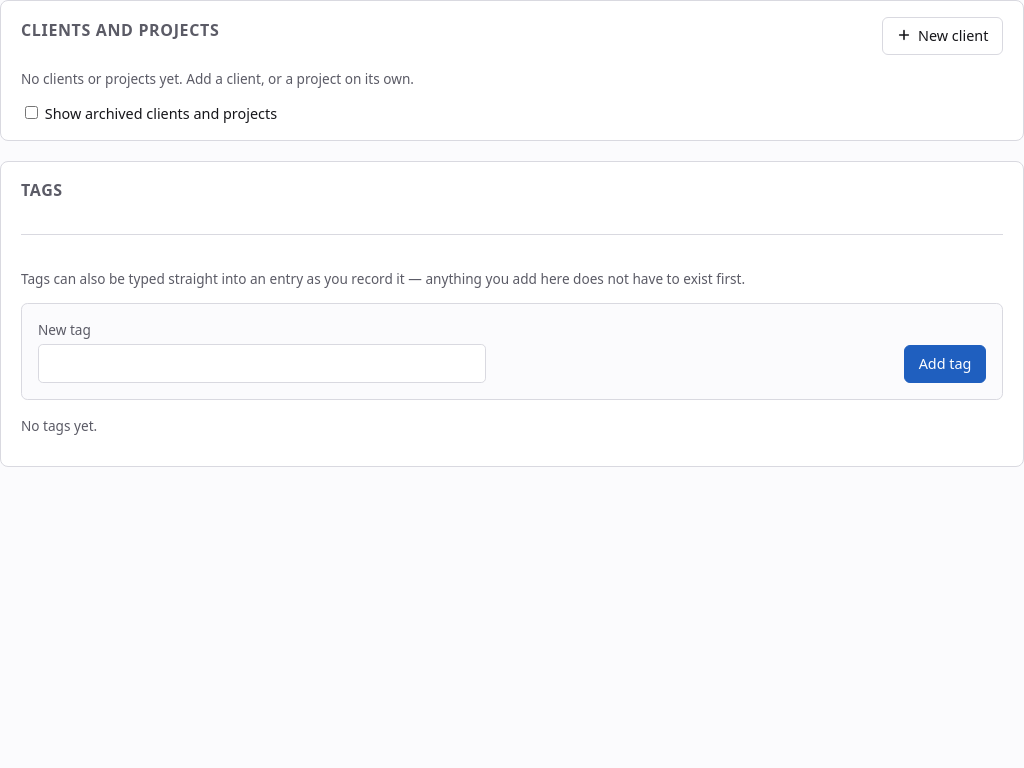
creating records (0005 P1, P2, P7) › creates a client with a currency and a rate
Click the button with test id "new-client" at (942, 36), box x1=882 y1=17 x2=1003 y2=55
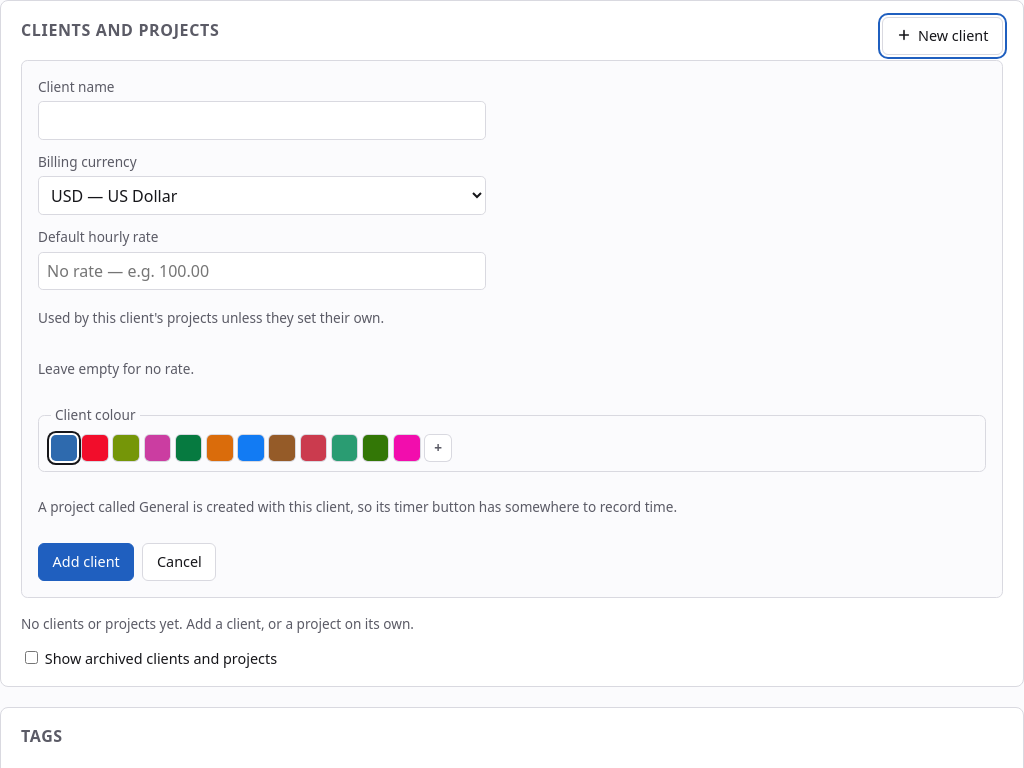
Type "Acme Ltd" into the field labelled "Client name" at (262, 121), box x1=38 y1=101 x2=486 y2=140
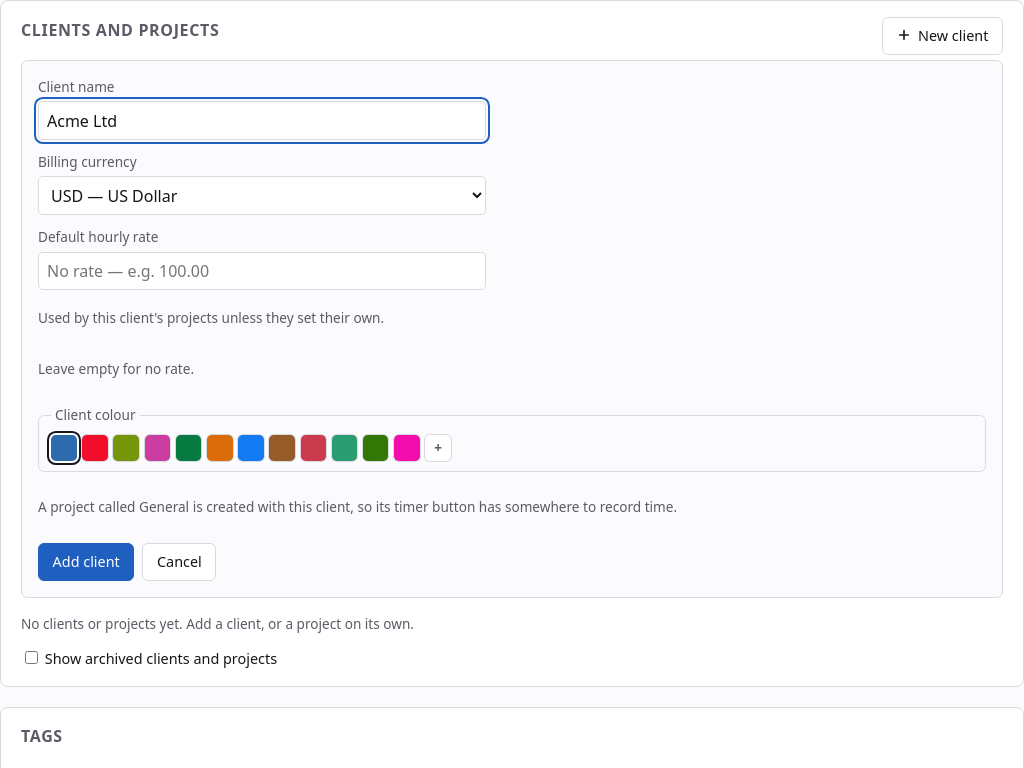
Note: 0005 P7: the picker offers currencies by name, and the stored value is the code.
Select "GBP — British Pound" in the dropdown labelled "Billing currency" at (262, 196), box x1=38 y1=176 x2=486 y2=215
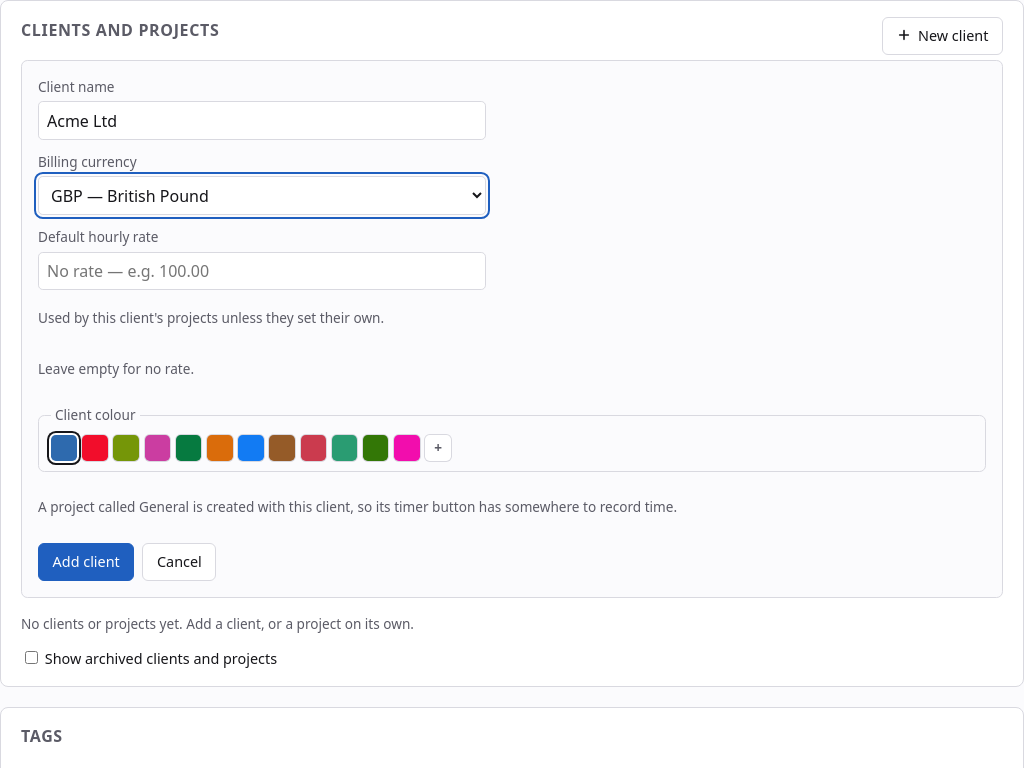
Type "75" into the field labelled "Default hourly rate" at (262, 271), box x1=38 y1=252 x2=486 y2=290
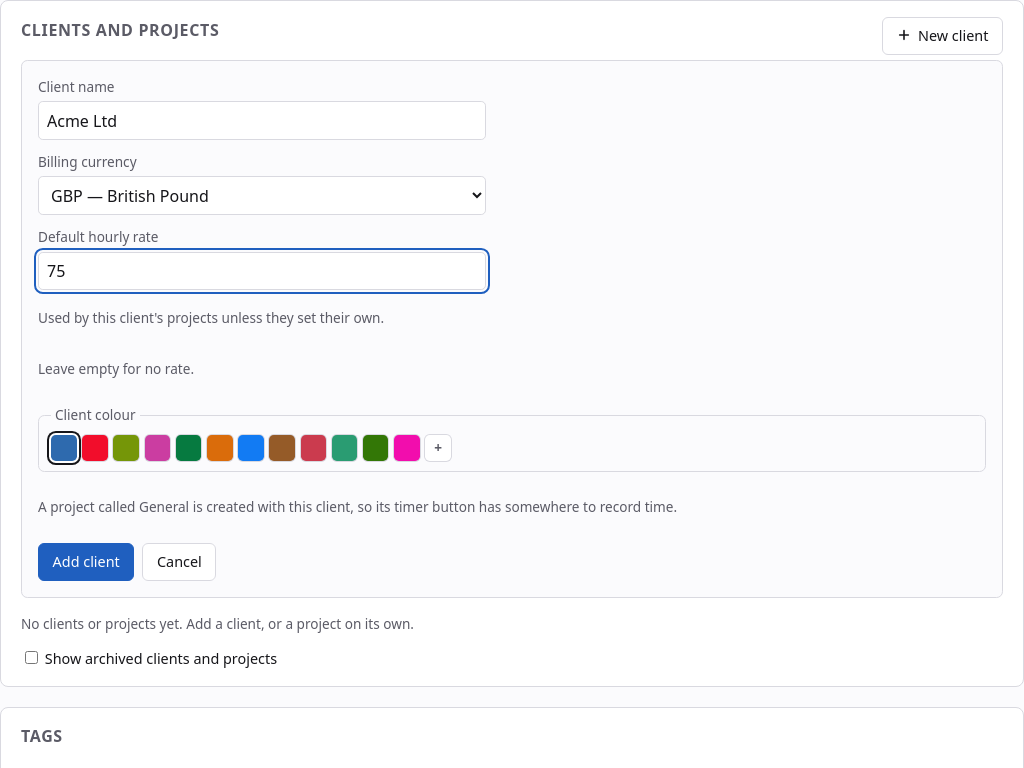
Click the button "Add client" at (86, 562), box x1=38 y1=543 x2=134 y2=581
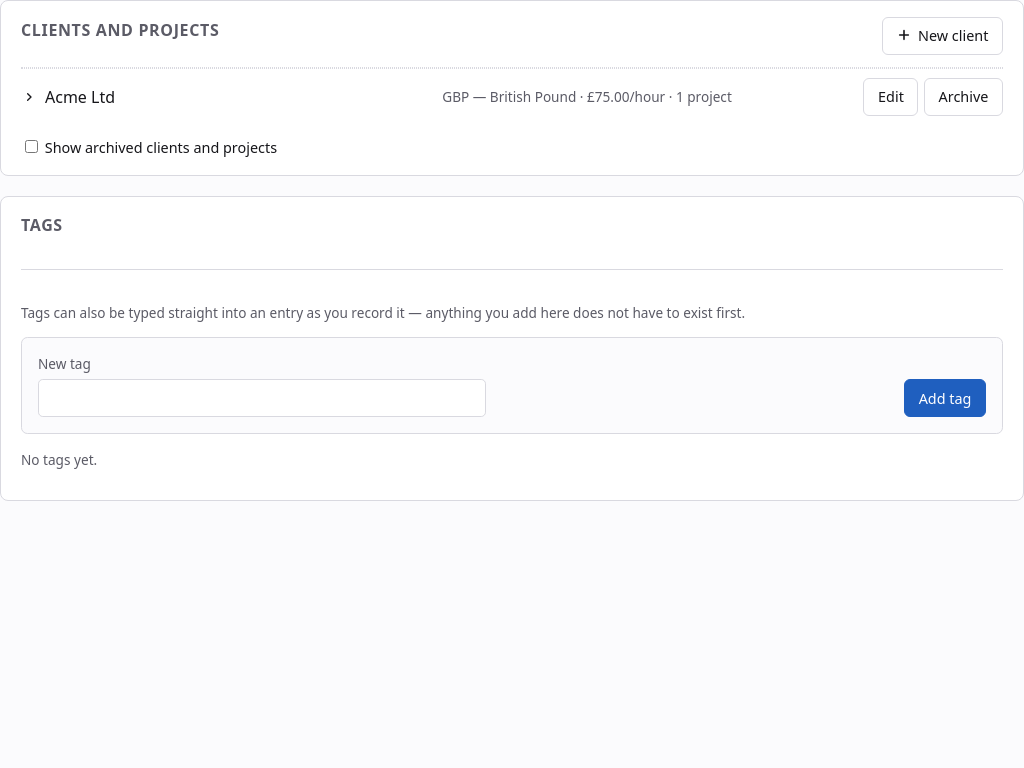
Check: the text "Acme Ltd" is shown, box x1=45 y1=85 x2=115 y2=109
